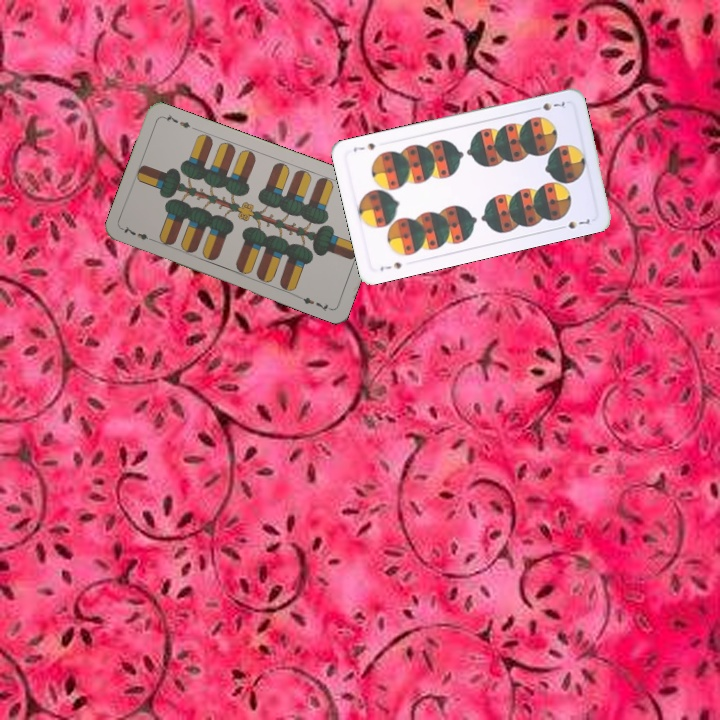E7: (119, 222, 158, 245)
S7: (529, 97, 568, 113), (376, 258, 404, 274)
